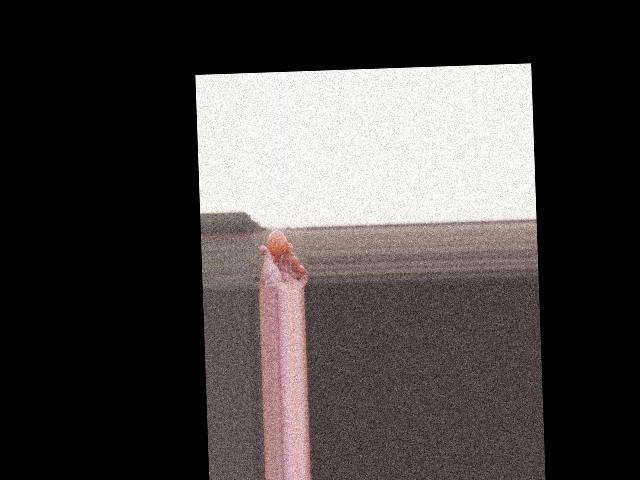egg: (266, 230, 288, 256)
